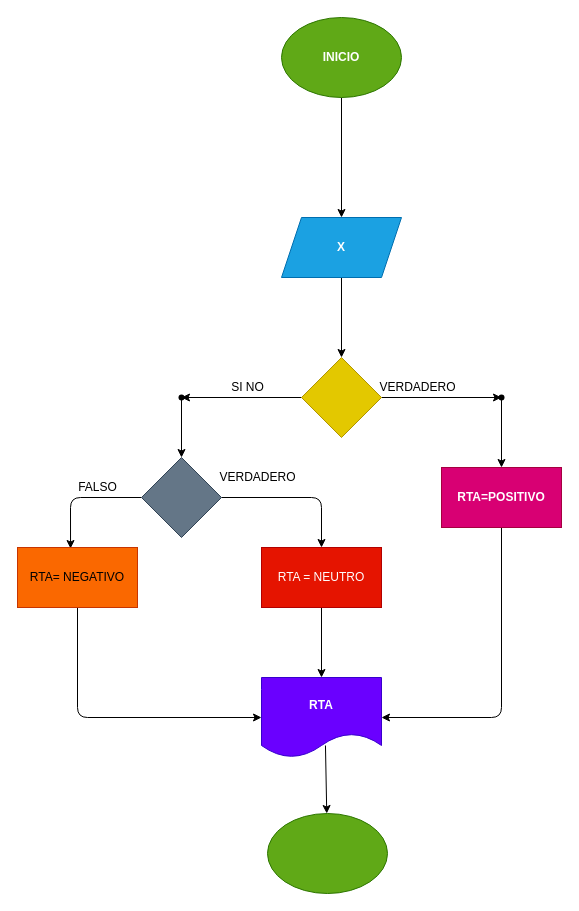
The diagram is 579 pixels wide and 911 high, and some of its shapes have lost their labels. Each missing label, with the box of its shape:
FIN: (266, 812, 388, 894)
R<0: (300, 356, 382, 438)
X==0: (140, 456, 222, 538)
